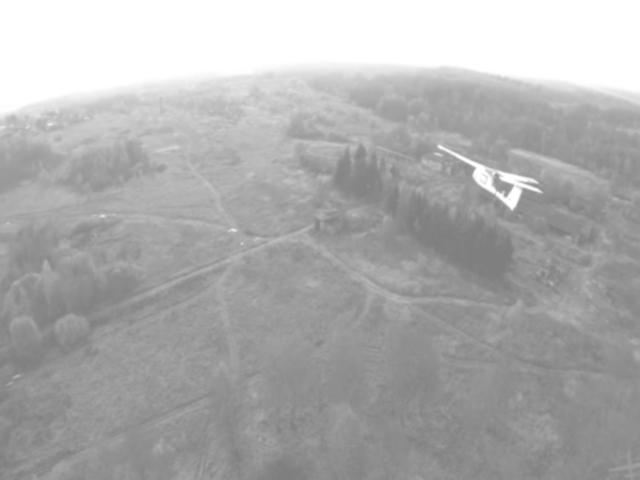hedef: (437, 134, 542, 224)
